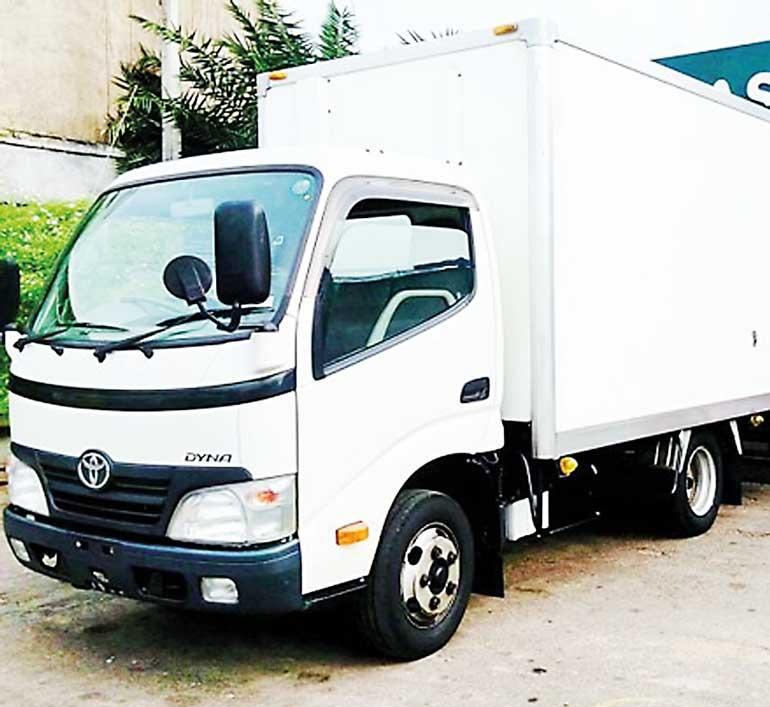truck: (1, 17, 770, 662)
